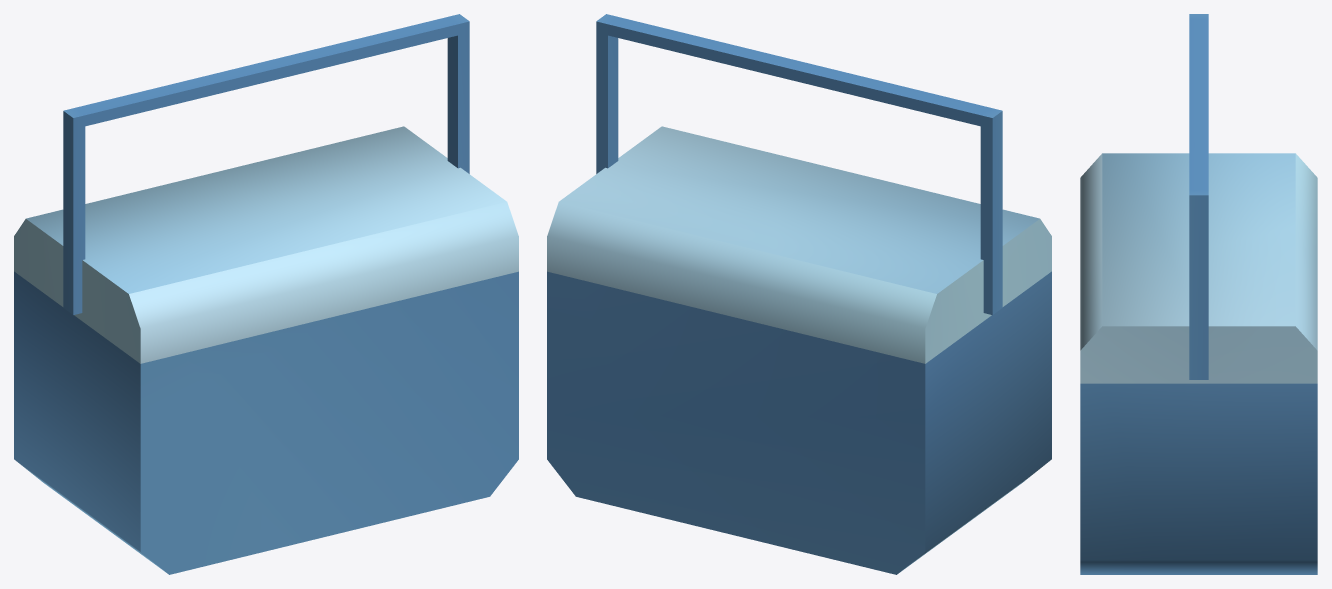
Rendered from prop.cooler_red.glb.
3 views of the same model, side by side, from view 1: azimuth 30°, elevation 25°; view 2: azimuth 150°, elevation 25°; view 3: azimuth 270°, elevation 25° (orthographic). The views are drawn at different scales.
Visible parts, largest first — view 1: Cube018; view 2: Cube018; view 3: Cube018.
Part boxes in pixels (x1,y1,x2,y2): Cube018: [14, 14, 518, 574]; Cube018: [547, 14, 1051, 574]; Cube018: [1080, 14, 1317, 574].
Size of the model in its own units: 0.4408 by 0.45 by 0.2435.
Materials: 1 (1 with a texture image).
